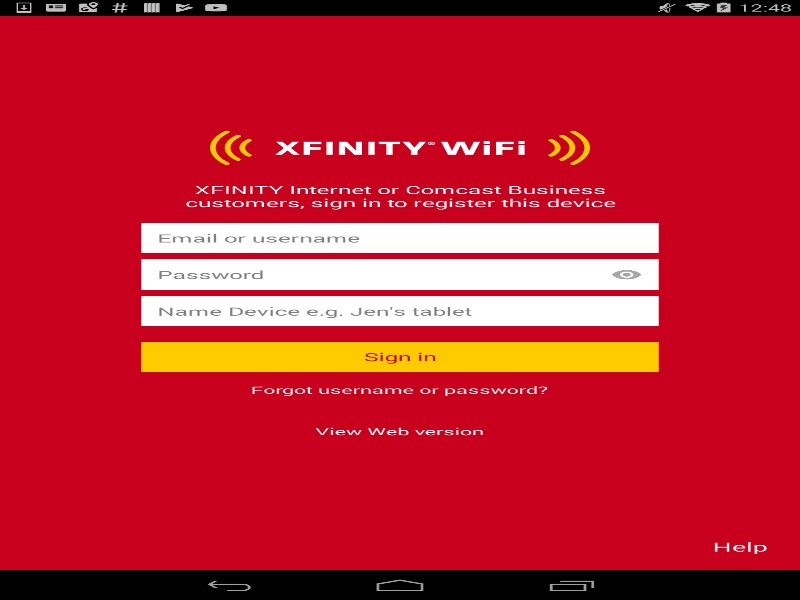Button: (141, 341, 658, 371)
Input: (146, 225, 653, 250), (146, 298, 653, 323), (146, 261, 605, 287)
